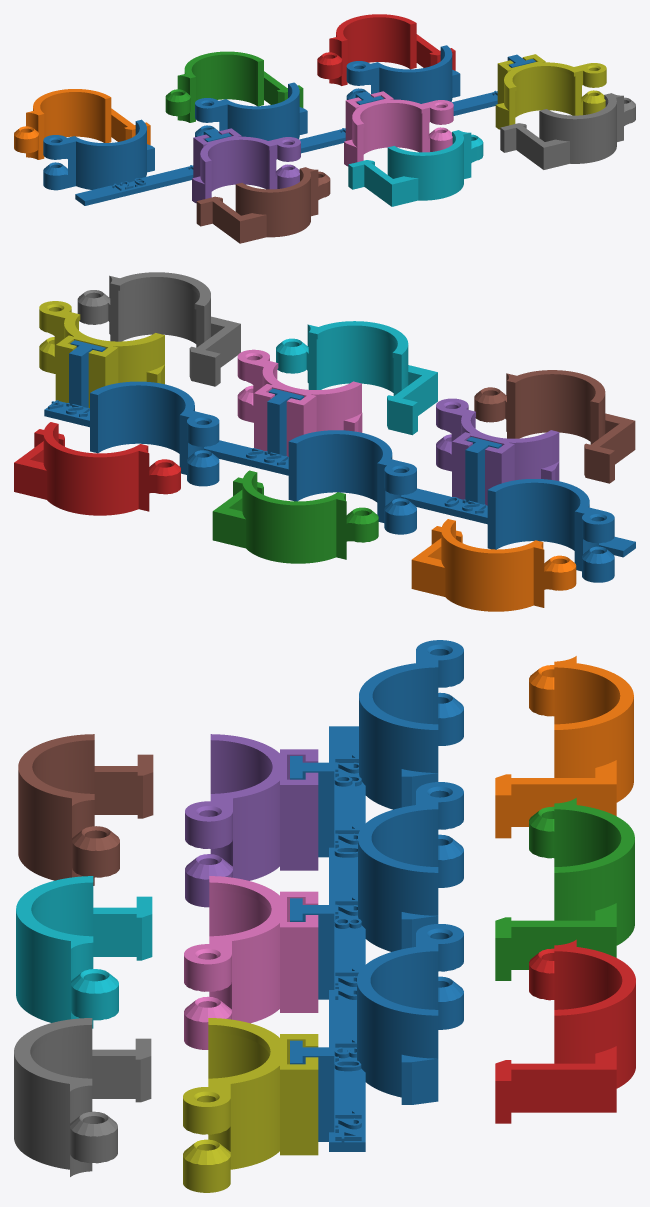
File: clamp-test-plate.glb
The picture shows the model from 3 angles, top to bottom: view 1: azimuth 30°, elevation 25°; view 2: azimuth 150°, elevation 25°; view 3: azimuth 270°, elevation 25°; orthographic projection. The views are drawn at different scales.
Parts seen in each view (by area): view 1: plate, cart-door-12-4, cart-door-12-2, cart-door-12-0, cart-body-12-4, cart-body-12-2, cart-body-12-0, door-13-0, door-12-8, door-12-6; view 2: plate, cart-door-12-4, cart-door-12-2, cart-door-12-0, door-13-0, door-12-8, door-12-6, cart-body-12-2, cart-body-12-4, cart-body-12-0; view 3: plate, cart-body-12-4, door-13-0, cart-body-12-2, cart-body-12-0, cart-door-12-4, door-12-8, cart-door-12-2, door-12-6, cart-door-12-0.
Boxes of the visible parts, bbox=[...] form: plate: bbox=[43, 45, 535, 205]; cart-door-12-4: bbox=[500, 93, 635, 169]; cart-door-12-2: bbox=[348, 130, 483, 206]; cart-door-12-0: bbox=[196, 167, 330, 243]; cart-body-12-4: bbox=[495, 54, 606, 129]; cart-body-12-2: bbox=[344, 91, 453, 166]; cart-body-12-0: bbox=[192, 128, 300, 203]; door-13-0: bbox=[317, 14, 455, 85]; door-12-8: bbox=[165, 51, 303, 122]; door-12-6: bbox=[14, 89, 150, 159]; plate: bbox=[44, 340, 635, 582]; cart-door-12-4: bbox=[77, 272, 240, 386]; cart-door-12-2: bbox=[276, 321, 437, 435]; cart-door-12-0: bbox=[474, 370, 635, 483]; door-13-0: bbox=[14, 422, 180, 515]; door-12-8: bbox=[212, 470, 378, 563]; door-12-6: bbox=[411, 519, 576, 611]; cart-body-12-2: bbox=[237, 349, 362, 456]; cart-body-12-4: bbox=[39, 301, 164, 408]; cart-body-12-0: bbox=[436, 398, 559, 505]; plate: bbox=[290, 640, 463, 1151]; cart-body-12-4: bbox=[183, 1018, 318, 1192]; door-13-0: bbox=[495, 939, 635, 1123]; cart-body-12-2: bbox=[184, 876, 318, 1049]; cart-body-12-0: bbox=[185, 734, 318, 907]; cart-door-12-4: bbox=[14, 1018, 151, 1176]; door-12-8: bbox=[495, 798, 634, 980]; cart-door-12-2: bbox=[16, 876, 152, 1028]; door-12-6: bbox=[495, 656, 633, 838]; cart-door-12-0: bbox=[18, 734, 153, 885].
Size of the model in its own units: 0.105 by 0.009 by 0.0591.
